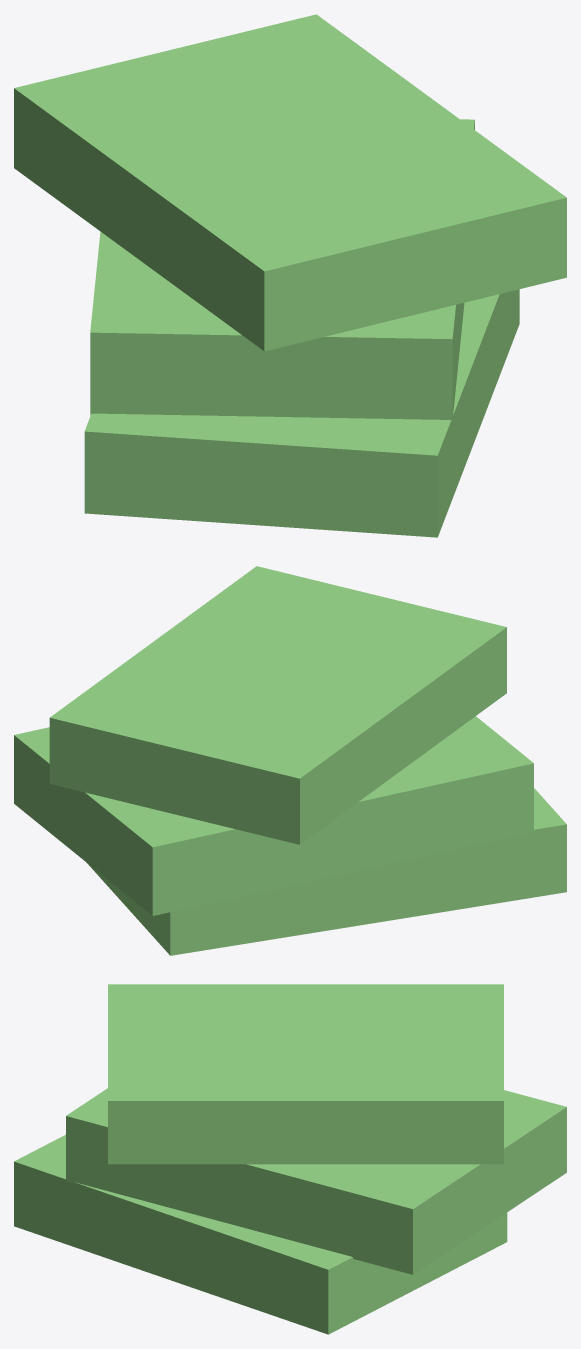
Rendered from Book_Pile_10B_Lod0.fbx.
The picture shows the model from 3 angles, top to bottom: view 1: azimuth 30°, elevation 25°; view 2: azimuth 150°, elevation 25°; view 3: azimuth 270°, elevation 25°; orthographic projection. The views are drawn at different scales.
Parts seen in each view (by area): view 1: Book_Pile_10B_Lod0; view 2: Book_Pile_10B_Lod0; view 3: Book_Pile_10B_Lod0.
Part boxes in pixels (x1=…): Book_Pile_10B_Lod0: x1=14, y1=14, x2=566, y2=537; Book_Pile_10B_Lod0: x1=14, y1=566, x2=566, y2=955; Book_Pile_10B_Lod0: x1=14, y1=984, x2=566, y2=1334.
Size of the model in its own units: 29.82 by 13.48 by 34.1.
